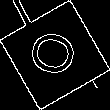O_E: (25, 28, 85, 82)
